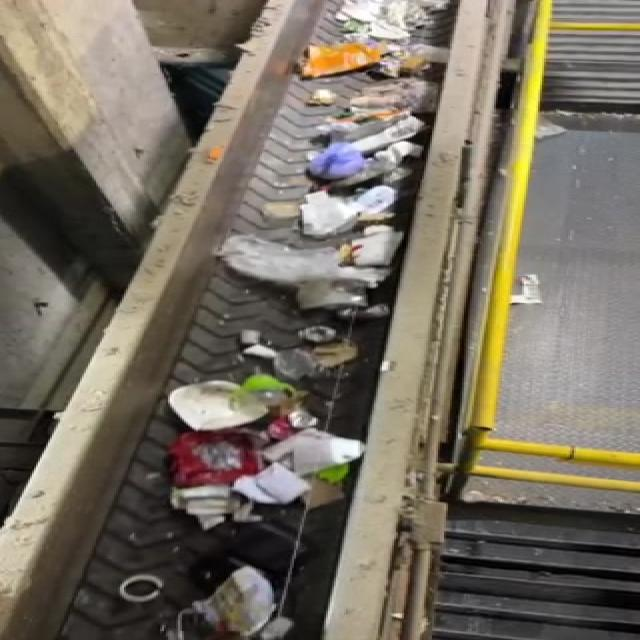paper: (176, 562, 294, 636), (236, 468, 322, 514)
pet: (232, 370, 300, 420)
ps: (164, 377, 275, 436)
